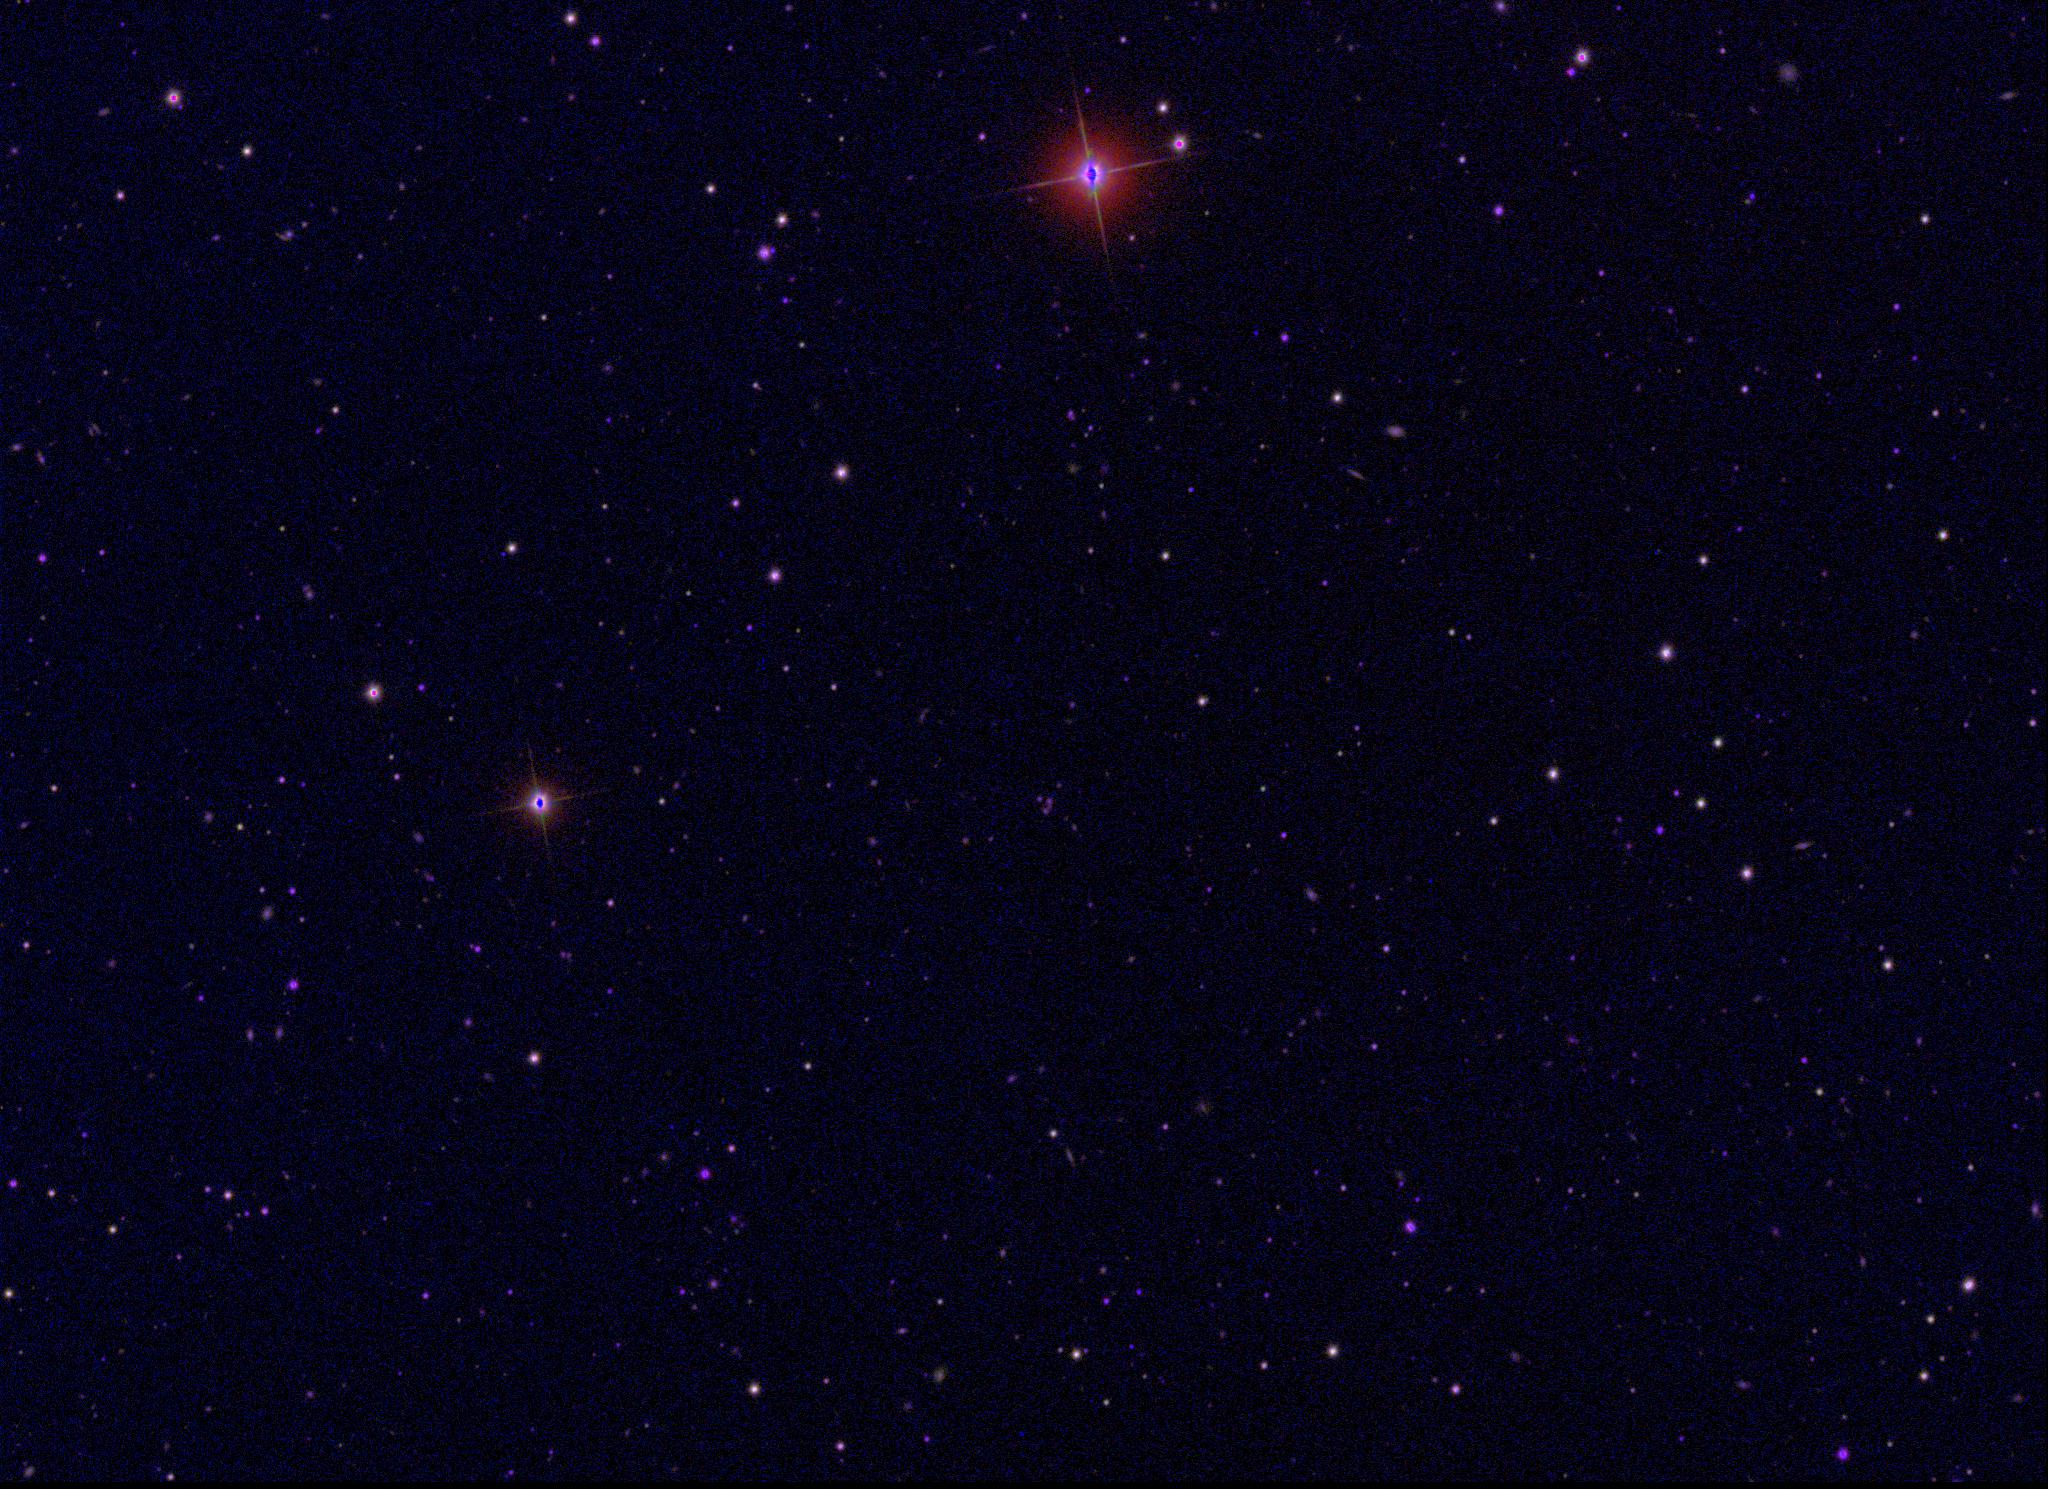L: (1250, 326, 1263, 340)
